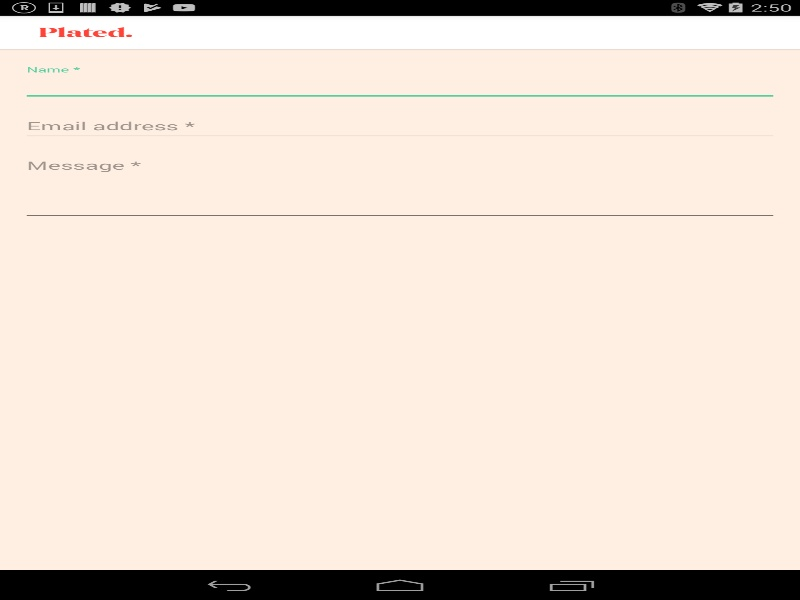Input: (21, 153, 778, 220), (21, 112, 778, 141), (21, 72, 778, 100)
